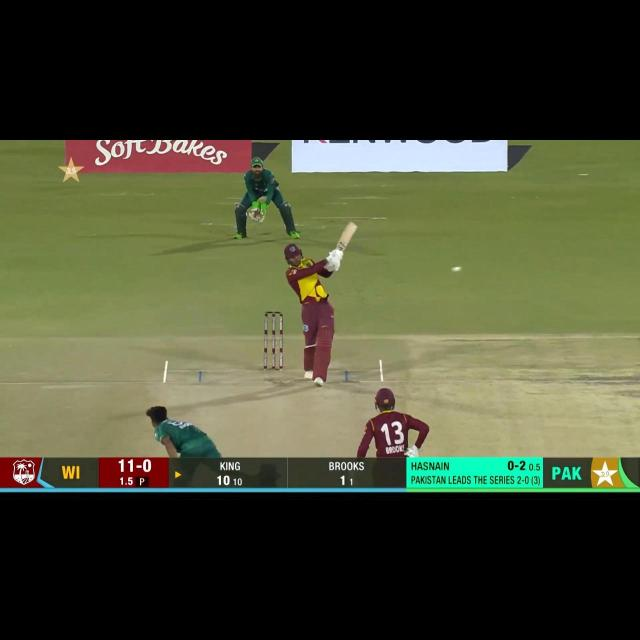bat: (337, 221, 358, 252)
toe: (345, 221, 358, 232)
